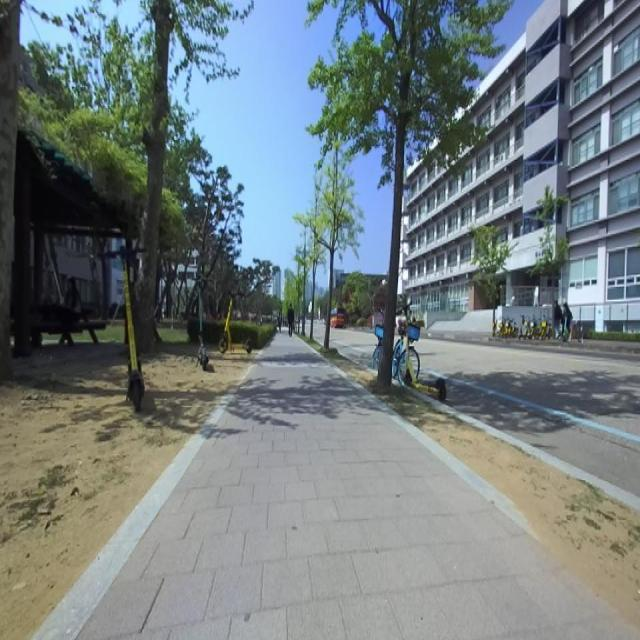sidewalk: (80, 337, 631, 639)
